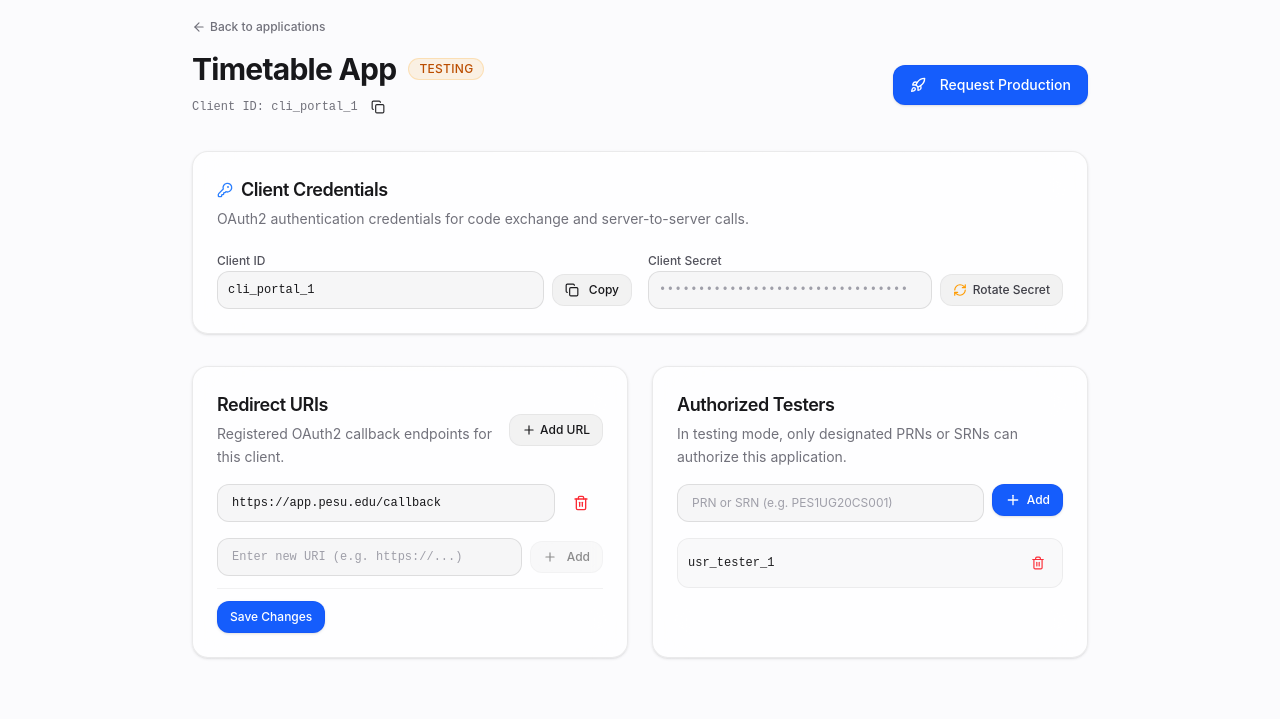
Test: ClientDetailPage Component › handles rotating client secret in drawer
Expected: the text "Rotate Secret" is shown, [973,282,1050,298]
Note: Open rotate secret drawer
Click the button "Rotate Secret".
click(1001, 290)  # box [940,274,1063,306]
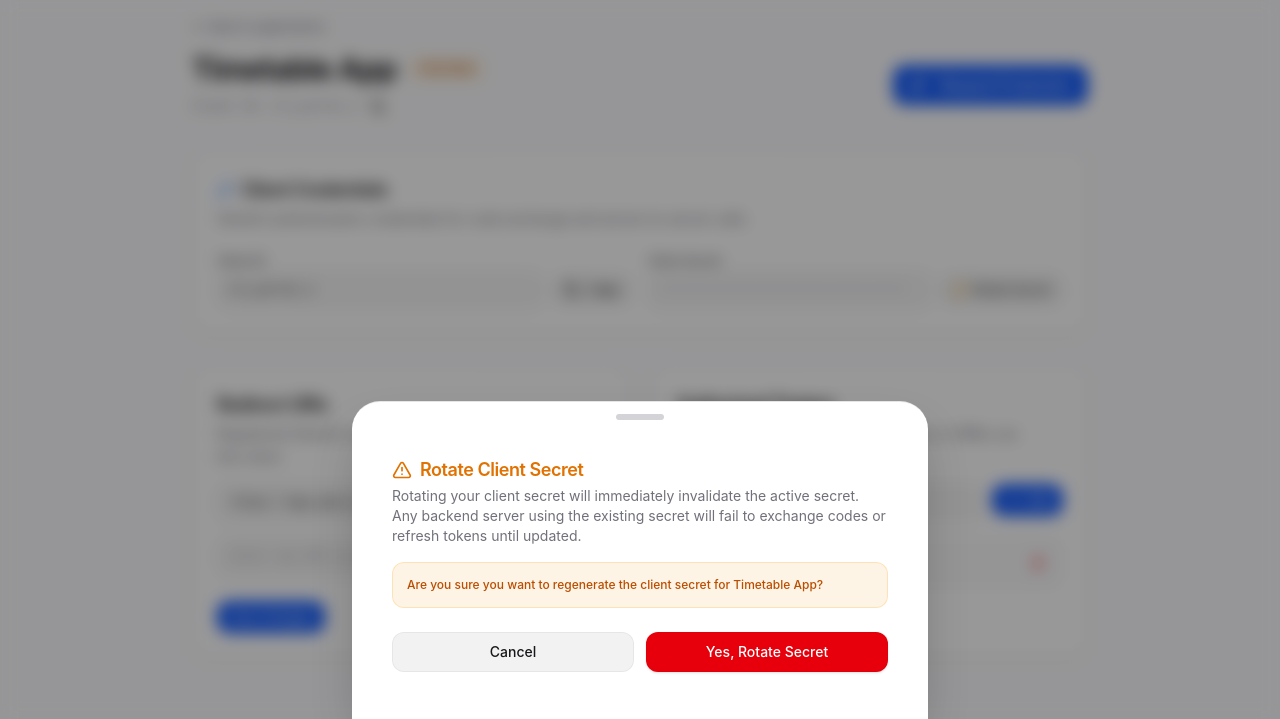
Note: Confirm rotate
Click the button "Yes, Rotate Secret".
click(767, 652)  # box [646,632,888,672]
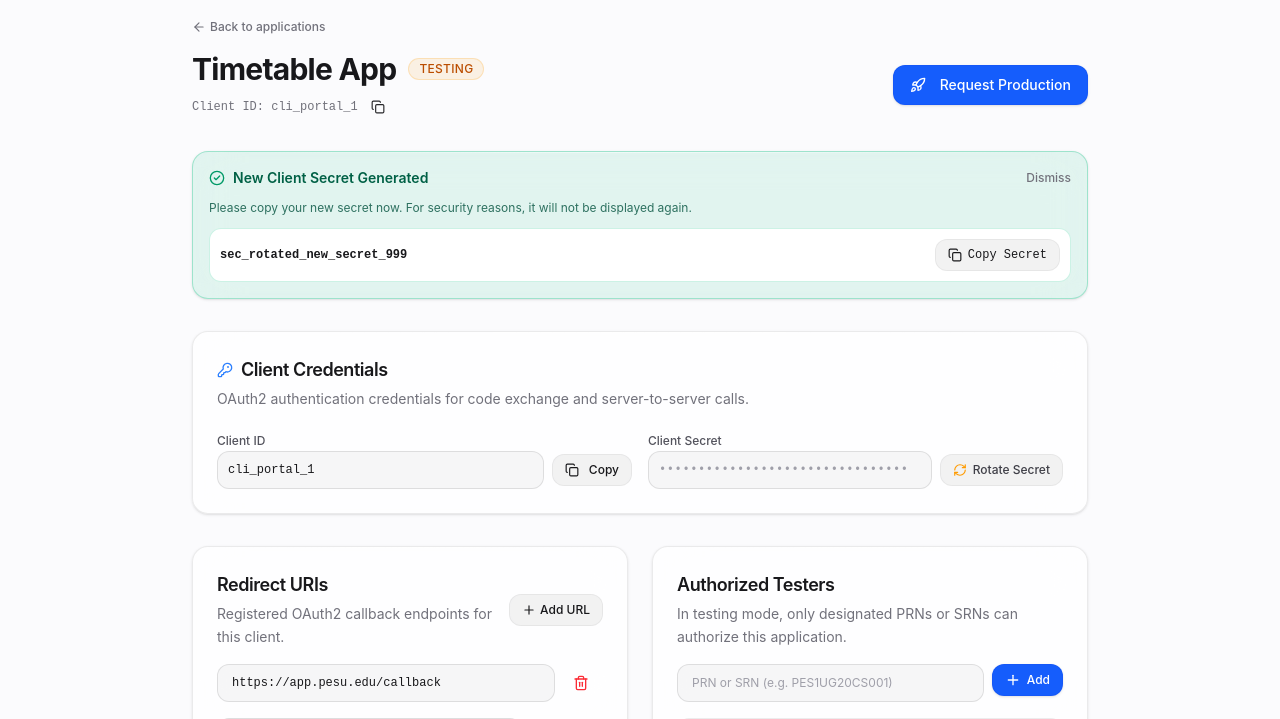
Expected: the text "sec_rotated_new_secret_999" is shown, [220,247,407,263]
